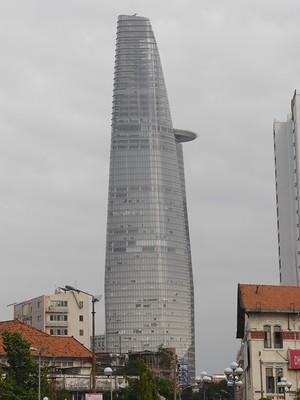building: (101, 11, 201, 382)
